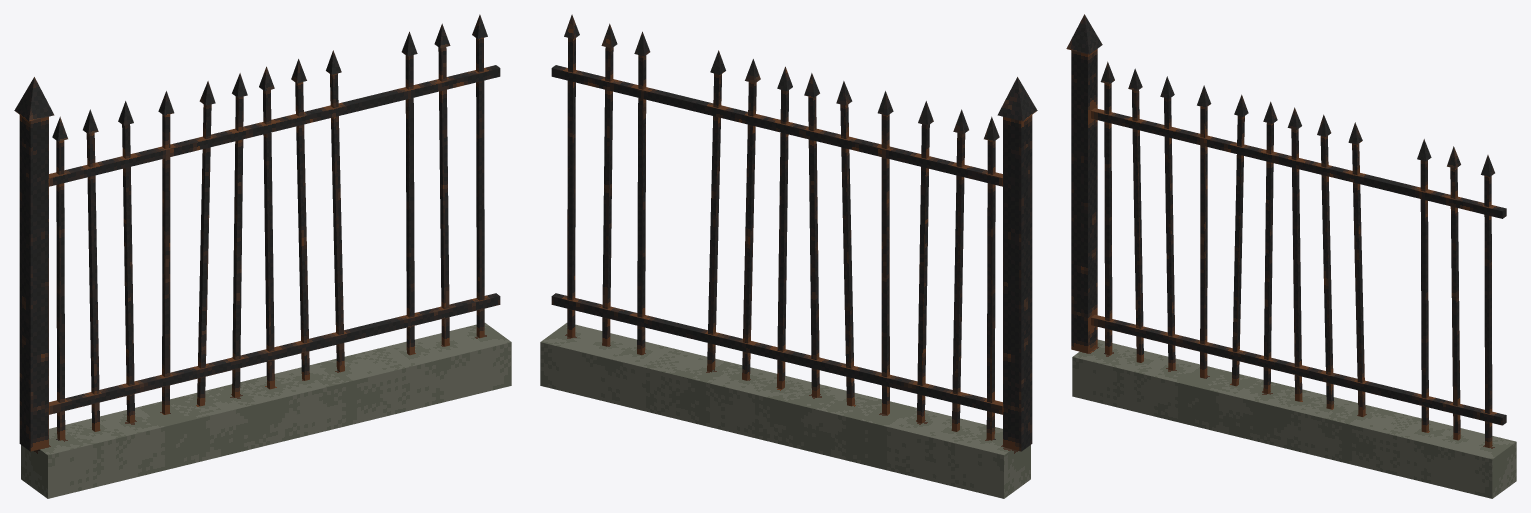
File: Fence_Iron_2m_01.glb
3 renders of one model, left to right at view 1: azimuth 30°, elevation 25°; view 2: azimuth 150°, elevation 25°; view 3: azimuth 330°, elevation 25°, orthographic. The views are drawn at different scales.
Parts seen in each view (by area): view 1: Fence_Iron_2m_01; view 2: Fence_Iron_2m_01; view 3: Fence_Iron_2m_01.
Boxes of the visible parts, bbox=[...] form: Fence_Iron_2m_01: bbox=[14, 14, 511, 498]; Fence_Iron_2m_01: bbox=[540, 14, 1037, 498]; Fence_Iron_2m_01: bbox=[1066, 14, 1516, 498].
Size of the model in its own units: 2.05 by 1.7 by 0.2.
1 material, 1 textured.
